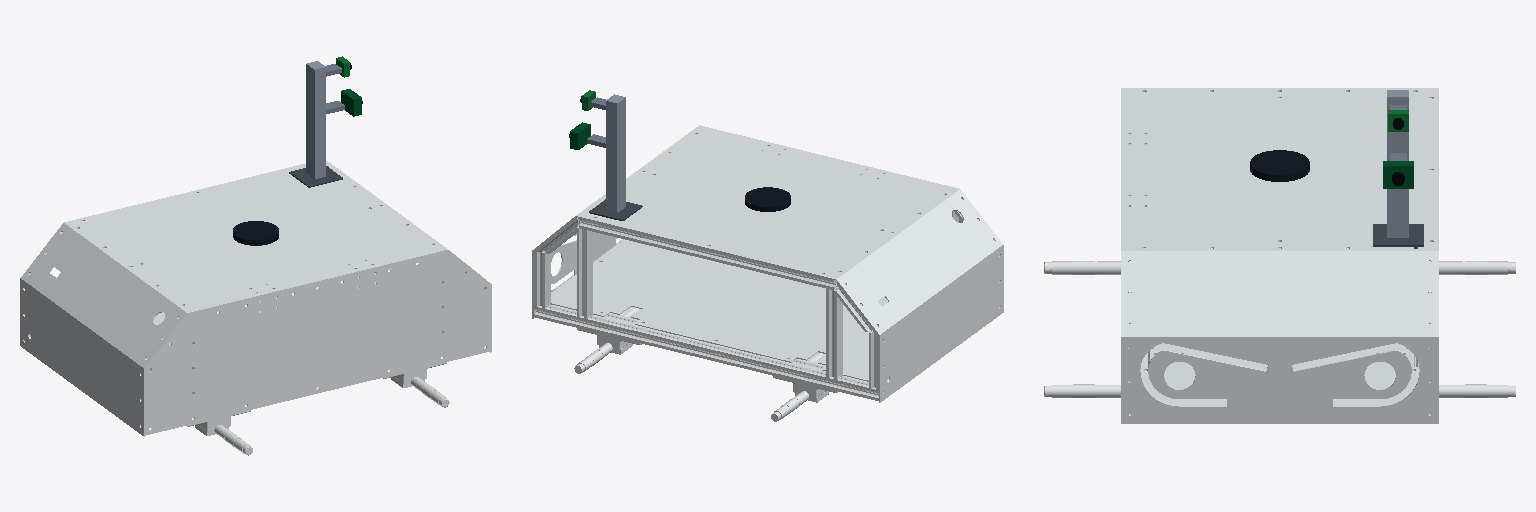
robot.urdf — Car.SLDASM:
<?xml version='1.0' encoding='utf-8'?>
<robot name="Car.SLDASM">
  <link name="base_link" />
  <joint name="base_link_to_Car_Center" type="fixed">
    <parent link="base_link" />
    <child link="Car_Center" />
    <origin xyz="0 0 0.1495" rpy="-1.57079632679 0 -1.57079632679" />
  </joint>
  <link name="Car_Center">
    <inertial>
      <origin xyz="0.013234 -0.070332 -0.0014796" rpy="0 0 0" />
      <mass value="9.4689" />
      <inertia ixx="0.13302" ixy="-2.4301E-05" ixz="1.3937E-05" iyy="0.18244" iyz="4.5325E-05" izz="0.065503" />
    </inertial>
    <visual>
      <origin xyz="0 0 0" rpy="0 0 0" />
      <geometry>
        <mesh filename="package://gp_test/meshes/Car_Center.STL" />
      </geometry>
      <material name="">
        <color rgba="0.89804 0.91765 0.92941 1" />
      </material>
    </visual>
    <collision>
      <origin xyz="0 0 0" rpy="0 0 0" />
      <geometry>
        <mesh filename="package://gp_test/meshes/Car_Center.STL" />
      </geometry>
    </collision>
  </link>
  <link name="FR_Wheel">
    <inertial>
      <origin xyz="-0.0039543 1.1846E-06 8.0769E-15" rpy="0 0 0" />
      <mass value="5.5536" />
      <inertia ixx="0.018183" ixy="5.5986E-13" ixz="-5.23E-19" iyy="0.009822" iyz="-2.9322E-18" izz="0.0098219" />
    </inertial>
    <visual>
      <origin xyz="0 0 0" rpy="0 0 0" />
      <geometry>
        <mesh filename="package://gp_test/meshes/FR_Wheel.STL" />
      </geometry>
      <material name="">
        <color rgba="0.77647 0.75686 0.73725 1" />
      </material>
    </visual>
    <collision>
      <origin xyz="0 0 0" rpy="0 0 0" />
      <geometry>
        <mesh filename="package://gp_test/meshes/FR_Wheel.STL" />
      </geometry>
    </collision>
  </link>
  <joint name="FR_Wheel_joint" type="continuous">
    <origin xyz="0.267 0.022 0.185" rpy="0 0 0" />
    <parent link="Car_Center" />
    <child link="FR_Wheel" />
    <axis xyz="-1 0 0" />
  </joint>
  <link name="FL_Wheel">
    <inertial>
      <origin xyz="0.0040343 1.1846E-06 -1.0825E-15" rpy="0 0 0" />
      <mass value="5.5536" />
      <inertia ixx="0.018183" ixy="-5.5986E-13" ixz="2.9045E-18" iyy="0.009822" iyz="-2.4239E-18" izz="0.0098219" />
    </inertial>
    <visual>
      <origin xyz="0 0 0" rpy="0 0 0" />
      <geometry>
        <mesh filename="package://gp_test/meshes/FL_Wheel.STL" />
      </geometry>
      <material name="">
        <color rgba="0.77647 0.75686 0.73725 1" />
      </material>
    </visual>
    <collision>
      <origin xyz="0 0 0" rpy="0 0 0" />
      <geometry>
        <mesh filename="package://gp_test/meshes/FL_Wheel.STL" />
      </geometry>
    </collision>
  </link>
  <joint name="FL_Wheel_joint" type="continuous">
    <origin xyz="-0.267 0.022 0.185" rpy="0 0 0" />
    <parent link="Car_Center" />
    <child link="FL_Wheel" />
    <axis xyz="-1 0 0" />
  </joint>
  <link name="RR_Wheel">
    <inertial>
      <origin xyz="-0.0039434 1.1846E-06 3.797E-14" rpy="0 0 0" />
      <mass value="5.5536" />
      <inertia ixx="0.018183" ixy="5.5987E-13" ixz="-6.9232E-18" iyy="0.009822" iyz="1.8231E-18" izz="0.0098219" />
    </inertial>
    <visual>
      <origin xyz="0 0 0" rpy="0 0 0" />
      <geometry>
        <mesh filename="package://gp_test/meshes/RR_Wheel.STL" />
      </geometry>
      <material name="">
        <color rgba="0.77647 0.75686 0.73725 1" />
      </material>
    </visual>
    <collision>
      <origin xyz="0 0 0" rpy="0 0 0" />
      <geometry>
        <mesh filename="package://gp_test/meshes/RR_Wheel.STL" />
      </geometry>
    </collision>
  </link>
  <joint name="RR_Wheel_joint" type="continuous">
    <origin xyz="0.267 0.022 -0.185" rpy="0 0 0" />
    <parent link="Car_Center" />
    <child link="RR_Wheel" />
    <axis xyz="-1 0 0" />
  </joint>
  <link name="RL_Wheel">
    <inertial>
      <origin xyz="0.0039434 1.1846E-06 3.5416E-14" rpy="0 0 0" />
      <mass value="5.5536" />
      <inertia ixx="0.018183" ixy="-5.5986E-13" ixz="-8.4275E-18" iyy="0.009822" iyz="3.929E-18" izz="0.0098219" />
    </inertial>
    <visual>
      <origin xyz="0 0 0" rpy="0 0 0" />
      <geometry>
        <mesh filename="package://gp_test/meshes/RL_Wheel.STL" />
      </geometry>
      <material name="">
        <color rgba="0.776 0.756 0.737 1" />
      </material>
    </visual>
    <collision>
      <origin xyz="0 0 0" rpy="0 0 0" />
      <geometry>
        <mesh filename="package://gp_test/meshes/RL_Wheel.STL" />
      </geometry>
    </collision>
  </link>
  <joint name="RL_Wheel_joint" type="continuous">
    <origin xyz="-0.267 0.022 -0.185" rpy="0 0 0" />
    <parent link="Car_Center" />
    <child link="RL_Wheel" />
    <axis xyz="-1 0 0" />
  </joint>
  <link name="lidar_bracket_link">
    <inertial>
      <origin xyz="0 0 0" rpy="0 0 0" />
      <mass value="0.08" />
      <inertia ixx="8.000000000000001e-06" iyy="8.000000000000001e-06" izz="8.000000000000001e-06" ixy="0" ixz="0" iyz="0" />
    </inertial>
    <visual>
      <origin xyz="0 0 0" rpy="0 0 0" />
      <geometry>
        <box size="0.060 0.090 0.005" />
      </geometry>
      <material name="inclined_mount_plate">
        <color rgba="0.22 0.25 0.29 1" />
      </material>
    </visual>
    <visual>
      <origin xyz="0 0 0.014" rpy="0 0 0" />
      <geometry>
        <cylinder radius="0.012" length="0.025" />
      </geometry>
      <material name="lidar_short_standoff">
        <color rgba="0.57 0.61 0.65 1" />
      </material>
    </visual>
  </link>
  <joint name="lidar_bracket_mount_joint" type="fixed">
    <parent link="base_link" />
    <child link="lidar_bracket_link" />
    <origin xyz="0 0 0.318" rpy="0 0 0" />
  </joint>
  <link name="lidar_link">
    <inertial>
      <origin xyz="0 0 -0.015" rpy="0 0 0" />
      <mass value="0.15" />
      <inertia ixx="1.5e-05" iyy="1.5e-05" izz="1.5e-05" ixy="0" ixz="0" iyz="0" />
    </inertial>
    <visual>
      <origin xyz="0 0 -0.015" rpy="0 0 0" />
      <geometry>
        <cylinder radius="0.038" length="0.030" />
      </geometry>
      <material name="lidar_black">
        <color rgba="0.10 0.13 0.17 1" />
      </material>
    </visual>
  </link>
  <joint name="lidar_mount_joint" type="fixed">
    <parent link="lidar_bracket_link" />
    <child link="lidar_link" />
    <origin xyz="0 0 0.043" rpy="0 0 0" />
  </joint>
  <link name="imu_link">
    <inertial>
      <origin xyz="0 0 0" rpy="0 0 0" />
      <mass value="0.015" />
      <inertia ixx="1.5e-06" iyy="1.5e-06" izz="1.5e-06" ixy="0" ixz="0" iyz="0" />
    </inertial>
    <visual>
      <origin xyz="0 0 0" rpy="0 0 0" />
      <geometry>
        <box size="0.028 0.020 0.004" />
      </geometry>
      <material name="imu_blue">
        <color rgba="0.05 0.23 0.75 1" />
      </material>
    </visual>
  </link>
  <joint name="imu_mount_joint" type="fixed">
    <parent link="base_link" />
    <child link="imu_link" />
    <origin xyz="0 0 0.260" rpy="0 0 0" />
  </joint>
  <link name="camera_stand_link">
    <inertial>
      <origin xyz="0 0 0" rpy="0 0 0" />
      <mass value="0.2" />
      <inertia ixx="2e-05" iyy="2e-05" izz="2e-05" ixy="0" ixz="0" iyz="0" />
    </inertial>
    <visual>
      <origin xyz="0 0 0" rpy="0 0 0" />
      <geometry>
        <box size="0.022 0.028 0.200" />
      </geometry>
      <material name="stand_aluminium">
        <color rgba="0.58 0.62 0.68 1" />
      </material>
    </visual>
    <visual>
      <origin xyz="0 0 -0.100" rpy="0 0 0" />
      <geometry>
        <box size="0.065 0.065 0.005" />
      </geometry>
      <material name="stand_base">
        <color rgba="0.30 0.33 0.37 1" />
      </material>
    </visual>
    <visual>
      <origin xyz="0.021 0 0.085" rpy="0 0 0" />
      <geometry>
        <box size="0.042 0.022 0.008" />
      </geometry>
      <material name="stand_upper_arm">
        <color rgba="0.48 0.52 0.58 1" />
      </material>
    </visual>
    <visual>
      <origin xyz="0.024 0 0.017" rpy="0 0 0" />
      <geometry>
        <box size="0.048 0.022 0.008" />
      </geometry>
      <material name="stand_lower_arm">
        <color rgba="0.48 0.52 0.58 1" />
      </material>
    </visual>
  </link>
  <joint name="camera_stand_mount_joint" type="fixed">
    <parent link="base_link" />
    <child link="camera_stand_link" />
    <origin xyz="0.200 0.150 0.4515" rpy="0 0 0" />
  </joint>
  <link name="rgb_camera_link">
    <inertial>
      <origin xyz="0 0 0" rpy="0 0 0" />
      <mass value="0.02" />
      <inertia ixx="2.0000000000000003e-06" iyy="2.0000000000000003e-06" izz="2.0000000000000003e-06" ixy="0" ixz="0" iyz="0" />
    </inertial>
    <visual>
      <origin xyz="0 0 0" rpy="0 0 0" />
      <geometry>
        <box size="0.012 0.026 0.025" />
      </geometry>
      <material name="rgb_camera_pcb">
        <color rgba="0.10 0.48 0.25 1" />
      </material>
    </visual>
    <visual>
      <origin xyz="0.008 0 0" rpy="0 1.57079632679 0" />
      <geometry>
        <cylinder radius="0.007" length="0.008" />
      </geometry>
      <material name="rgb_camera_lens">
        <color rgba="0.08 0.09 0.12 1" />
      </material>
    </visual>
  </link>
  <joint name="rgb_camera_mount_joint" type="fixed">
    <parent link="camera_stand_link" />
    <child link="rgb_camera_link" />
    <origin xyz="0.051 0 0.085" rpy="0 0 0" />
  </joint>
  <link name="rgb_camera_optical_frame" />
  <joint name="rgb_camera_optical_joint" type="fixed">
    <parent link="rgb_camera_link" />
    <child link="rgb_camera_optical_frame" />
    <origin xyz="0.012 0 0" rpy="-1.57079632679 0 -1.57079632679" />
  </joint>
  <link name="thermal_camera_tilt_link">
    <inertial>
      <origin xyz="0.012 0 0" rpy="0 0 0" />
      <mass value="0.050" />
      <inertia ixx="0.0000107" ixy="0" ixz="0" iyy="0.0000061" iyz="0" izz="0.0000090" />
    </inertial>
    <visual>
      <origin xyz="0.012 0 0" rpy="0 0 0" />
      <geometry>
        <box size="0.016 0.040 0.031" />
      </geometry>
      <material name="thermal_pcb">
        <color rgba="0.05 0.35 0.20 1" />
      </material>
    </visual>
    <visual>
      <origin xyz="0.023 0 0" rpy="0 1.57079632679 0" />
      <geometry>
        <cylinder radius="0.008" length="0.010" />
      </geometry>
      <material name="thermal_lens">
        <color rgba="0.07 0.07 0.08 1" />
      </material>
    </visual>
    <collision>
      <origin xyz="0.012 0 0" rpy="0 0 0" />
      <geometry>
        <box size="0.016 0.040 0.031" />
      </geometry>
    </collision>
  </link>
  <joint name="thermal_camera_pitch_joint" type="revolute">
    <parent link="camera_stand_link" />
    <child link="thermal_camera_tilt_link" />
    <origin xyz="0.055 0 0.017" rpy="0 0 0" />
    <axis xyz="0 1 0" />
    <limit lower="-0.523599" upper="0.523599" effort="1.0" velocity="1.0" />
  </joint>
  <link name="thermal_camera_optical_frame" />
  <joint name="thermal_camera_optical_joint" type="fixed">
    <parent link="thermal_camera_tilt_link" />
    <child link="thermal_camera_optical_frame" />
    <origin xyz="0.028 0 0" rpy="-1.57079632679 0 -1.57079632679" />
  </joint>
  <gazebo reference="lidar_bracket_mount_joint">
    <preserveFixedJoint>true</preserveFixedJoint>
  </gazebo>
  <gazebo reference="lidar_mount_joint">
    <preserveFixedJoint>true</preserveFixedJoint>
  </gazebo>
  <gazebo reference="imu_mount_joint">
    <preserveFixedJoint>true</preserveFixedJoint>
  </gazebo>
  <gazebo reference="camera_stand_mount_joint">
    <preserveFixedJoint>true</preserveFixedJoint>
  </gazebo>
  <gazebo reference="rgb_camera_mount_joint">
    <preserveFixedJoint>true</preserveFixedJoint>
  </gazebo>
  <gazebo reference="rgb_camera_optical_joint">
    <preserveFixedJoint>true</preserveFixedJoint>
  </gazebo>
  <gazebo reference="thermal_camera_optical_joint">
    <preserveFixedJoint>true</preserveFixedJoint>
  </gazebo>
  <gazebo>
    <plugin filename="gz-sim-diff-drive-system" name="gz::sim::systems::DiffDrive">
      <left_joint>FL_Wheel_joint</left_joint>
      <left_joint>RL_Wheel_joint</left_joint>
      <right_joint>FR_Wheel_joint</right_joint>
      <right_joint>RR_Wheel_joint</right_joint>
      <wheel_separation>0.75</wheel_separation>
      <wheel_radius>0.1275</wheel_radius>
      <odom_publish_frequency>30</odom_publish_frequency>
      <max_linear_acceleration>0.6</max_linear_acceleration>
      <max_angular_acceleration>1.5</max_angular_acceleration>
      <max_linear_velocity>0.5</max_linear_velocity>
      <max_angular_velocity>1.5</max_angular_velocity>
      <topic>cmd_vel</topic>
      <odom_topic>odom</odom_topic>
      <tf_topic>/tf</tf_topic>
      <frame_id>odom</frame_id>
      <child_frame_id>base_link</child_frame_id>
    </plugin>
    <plugin filename="gz-sim-joint-state-publisher-system" name="gz::sim::systems::JointStatePublisher">
      <topic>joint_states</topic>
      <update_rate>30</update_rate>
      <joint_name>FL_Wheel_joint</joint_name>
      <joint_name>FR_Wheel_joint</joint_name>
      <joint_name>RL_Wheel_joint</joint_name>
      <joint_name>RR_Wheel_joint</joint_name>
      <joint_name>thermal_camera_pitch_joint</joint_name>
    </plugin>
    <plugin filename="gz-sim-sensors-system" name="gz::sim::systems::Sensors">
      <render_engine>ogre2</render_engine>
    </plugin>
    <plugin filename="gz-sim-imu-system" name="gz::sim::systems::Imu" />
    <plugin filename="gz-sim-joint-position-controller-system" name="gz::sim::systems::JointPositionController">
      <joint_name>thermal_camera_pitch_joint</joint_name>
      <topic>thermal_camera_angle</topic>
      <p_gain>4.0</p_gain>
      <i_gain>0.0</i_gain>
      <d_gain>0.1</d_gain>
      <cmd_max>2.0</cmd_max>
      <cmd_min>-2.0</cmd_min>
    </plugin>
  </gazebo>
  <gazebo reference="lidar_link">
    <sensor name="ld06_scan" type="gpu_lidar">
      <pose>0 0 0 0 0 0</pose>
      <always_on>true</always_on>
      <visualize>true</visualize>
      <update_rate>10</update_rate>
      <topic>scan</topic>
      <gz_frame_id>lidar_link</gz_frame_id>
      <ray>
        <scan>
          <horizontal>
            <samples>720</samples>
            <resolution>1</resolution>
            <min_angle>-3.14159265</min_angle>
            <max_angle>3.14159265</max_angle>
          </horizontal>
        </scan>
        <range>
          <min>0.05</min>
          <max>12.0</max>
          <resolution>0.01</resolution>
        </range>
      </ray>
    </sensor>
  </gazebo>
  <gazebo reference="imu_link">
    <sensor name="bno055_imu" type="imu">
      <always_on>true</always_on>
      <update_rate>100</update_rate>
      <topic>imu</topic>
      <gz_frame_id>imu_link</gz_frame_id>
    </sensor>
  </gazebo>
  <gazebo reference="rgb_camera_link">
    <sensor name="rgb_camera" type="camera">
      <pose>0.012 0 0 0 0 0</pose>
      <always_on>true</always_on>
      <update_rate>20</update_rate>
      <topic>rgb/image_raw</topic>
      <gz_frame_id>rgb_camera_optical_frame</gz_frame_id>
      <camera>
        <horizontal_fov>1.308997</horizontal_fov>
        <image>
          <width>1280</width>
          <height>720</height>
          <format>R8G8B8</format>
        </image>
        <clip>
          <near>0.05</near>
          <far>25.0</far>
        </clip>
      </camera>
    </sensor>
  </gazebo>
  <gazebo reference="thermal_camera_tilt_link">
    <sensor name="thermal_camera_visual" type="camera">
      <pose>0.028 0 0 0 0 0</pose>
      <always_on>true</always_on>
      <update_rate>10</update_rate>
      <topic>thermal/image_raw</topic>
      <gz_frame_id>thermal_camera_optical_frame</gz_frame_id>
      <camera>
        <horizontal_fov>1.57079632679</horizontal_fov>
        <image>
          <width>320</width>
          <height>240</height>
          <format>R8G8B8</format>
        </image>
        <clip>
          <near>0.05</near>
          <far>20.0</far>
        </clip>
      </camera>
    </sensor>
  </gazebo>
</robot>

--- Render facts (derived) ---
The picture shows the robot from 3 angles, left to right: view 1: azimuth 30°, elevation 25°; view 2: azimuth 150°, elevation 25°; view 3: azimuth 270°, elevation 25°; orthographic projection.
Model Car.SLDASM with 14 links and 13 joints (1 revolute, 4 continuous, 8 fixed), rooted at base_link, posed every joint at zero.
Visible links, largest first — view 1: Car_Center, camera_stand_link, lidar_link; view 2: Car_Center, camera_stand_link, lidar_link; view 3: Car_Center, camera_stand_link, lidar_link, thermal_camera_tilt_link.
Link boxes in pixels (left/top/right/bottom): Car_Center: left=20, top=160, right=491, bottom=455; camera_stand_link: left=289, top=61, right=344, bottom=187; lidar_link: left=233, top=221, right=278, bottom=245; Car_Center: left=532, top=125, right=1003, bottom=421; camera_stand_link: left=587, top=94, right=642, bottom=220; lidar_link: left=745, top=187, right=790, bottom=211; Car_Center: left=1044, top=88, right=1515, bottom=423; camera_stand_link: left=1373, top=90, right=1423, bottom=248; lidar_link: left=1250, top=150, right=1309, bottom=181; thermal_camera_tilt_link: left=1383, top=161, right=1413, bottom=188.
Size in the robot's own frame: 0.654 by 0.597 by 0.434 metres.
1 mesh visuals loaded from 5 distinct referenced files (1 binary STL); not drawn: 4 (reference not matched to a file when rendering).
